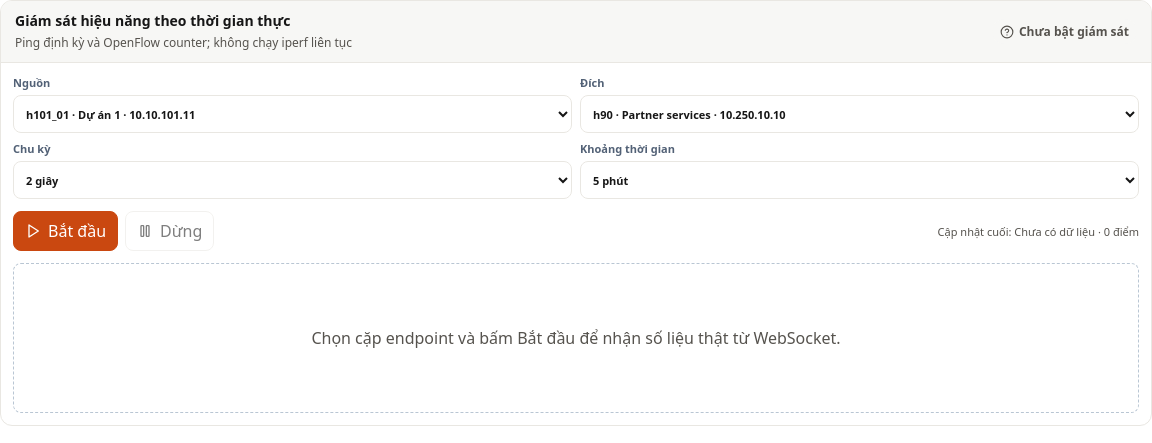
Test case: RealtimePanel › reconnects after an unexpected WebSocket close
The width and height of the screenshot is (1152, 443).
Click the button "Bắt đầu" at (66, 231), box [13, 211, 118, 251]
Wait 1200 ms
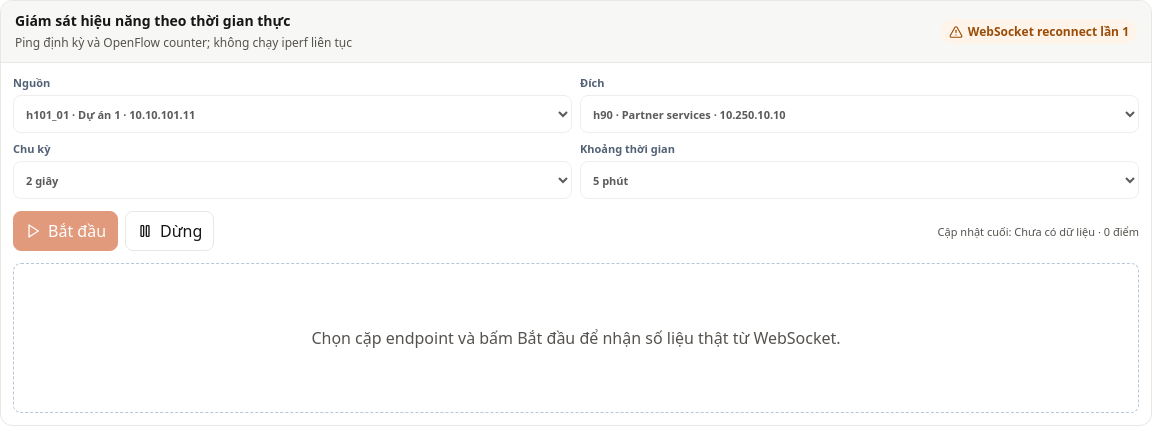
Result: the text "WebSocket reconnect lần 1" is shown at [941, 19, 1137, 44]
